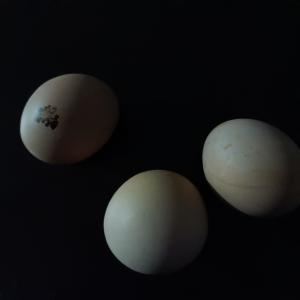Egg: (101, 168, 209, 278), (19, 68, 116, 168), (200, 117, 288, 222)
